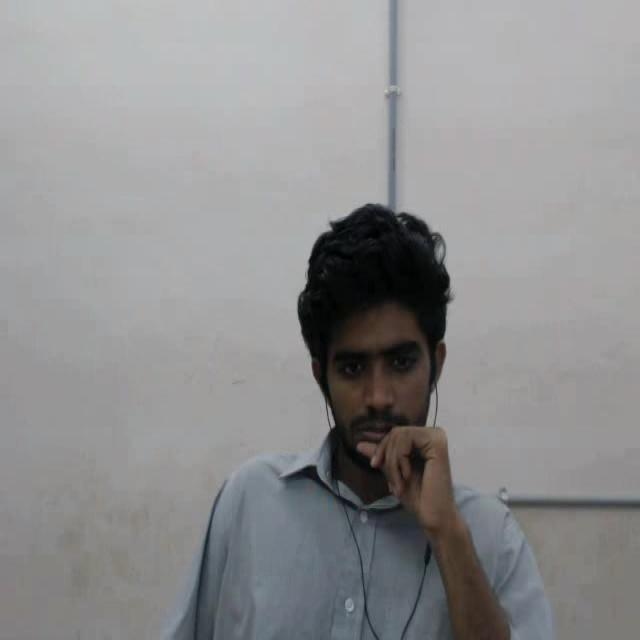Bored: (279, 184, 521, 523)
